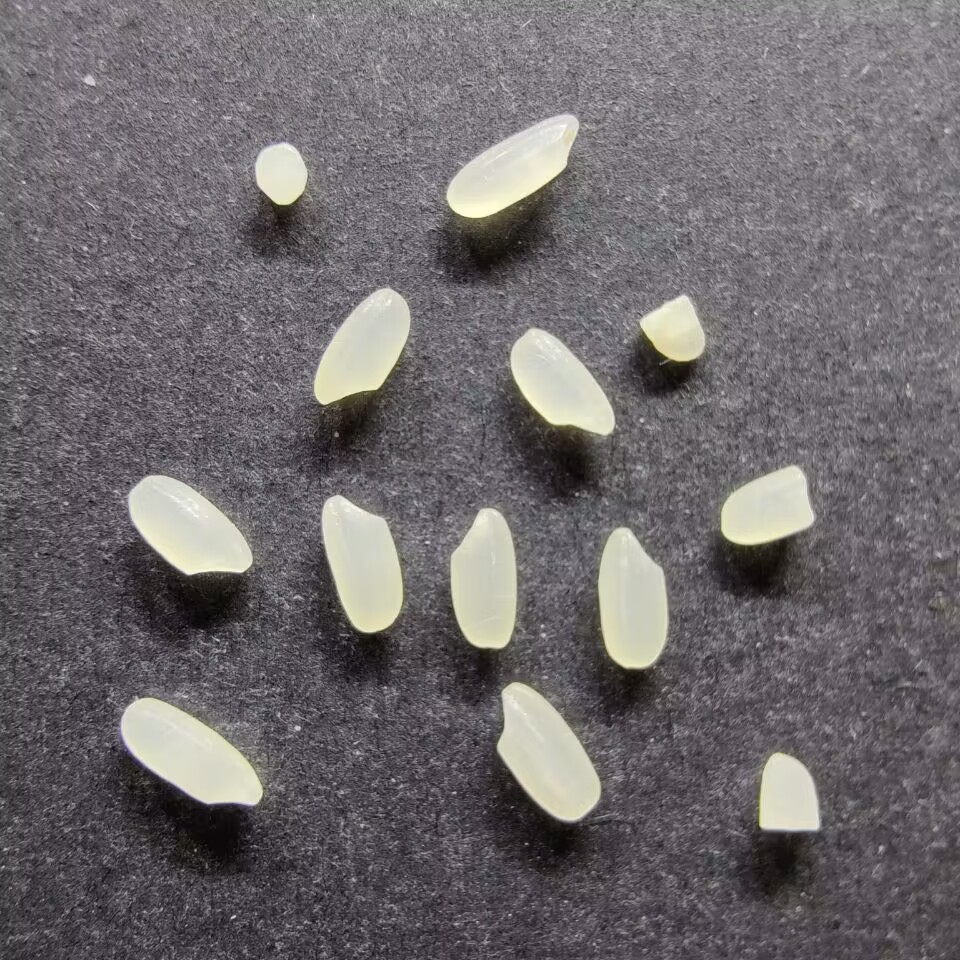broken: (720, 464, 814, 545), (757, 752, 820, 832), (637, 294, 705, 361), (253, 143, 307, 206)
rice: (119, 696, 263, 807), (495, 681, 601, 821), (446, 113, 579, 218), (127, 475, 253, 576), (509, 326, 615, 437), (313, 288, 411, 405), (321, 494, 403, 633), (597, 527, 667, 669), (448, 507, 517, 648)
